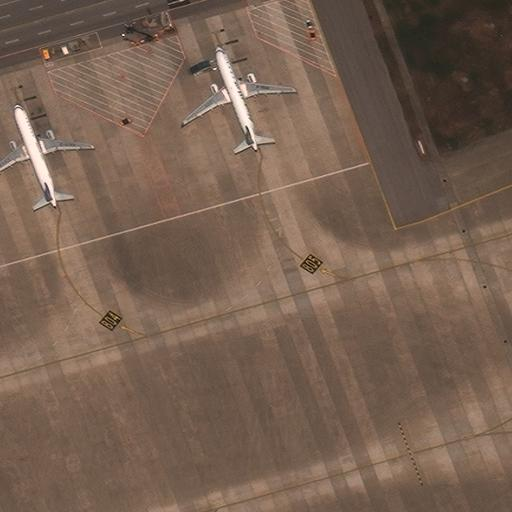Medium Civil Transport: (182, 46, 293, 151), (0, 104, 92, 207)
